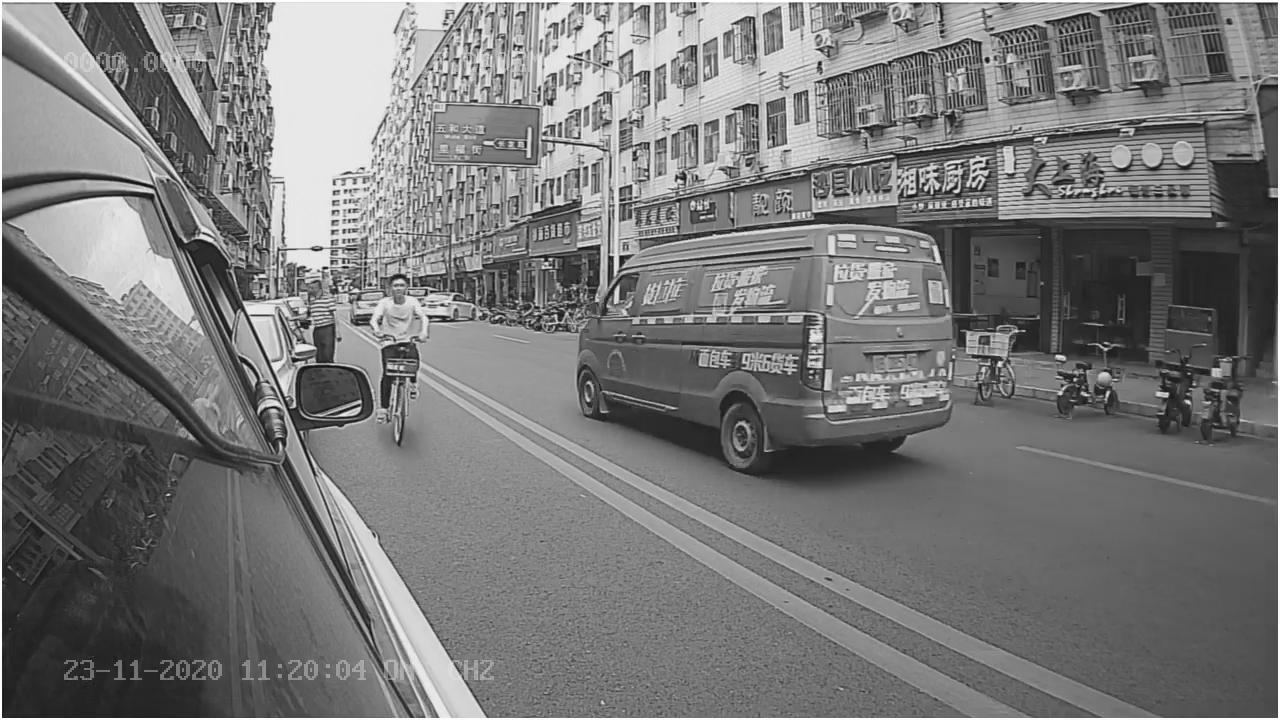person: (359, 270, 436, 341)
